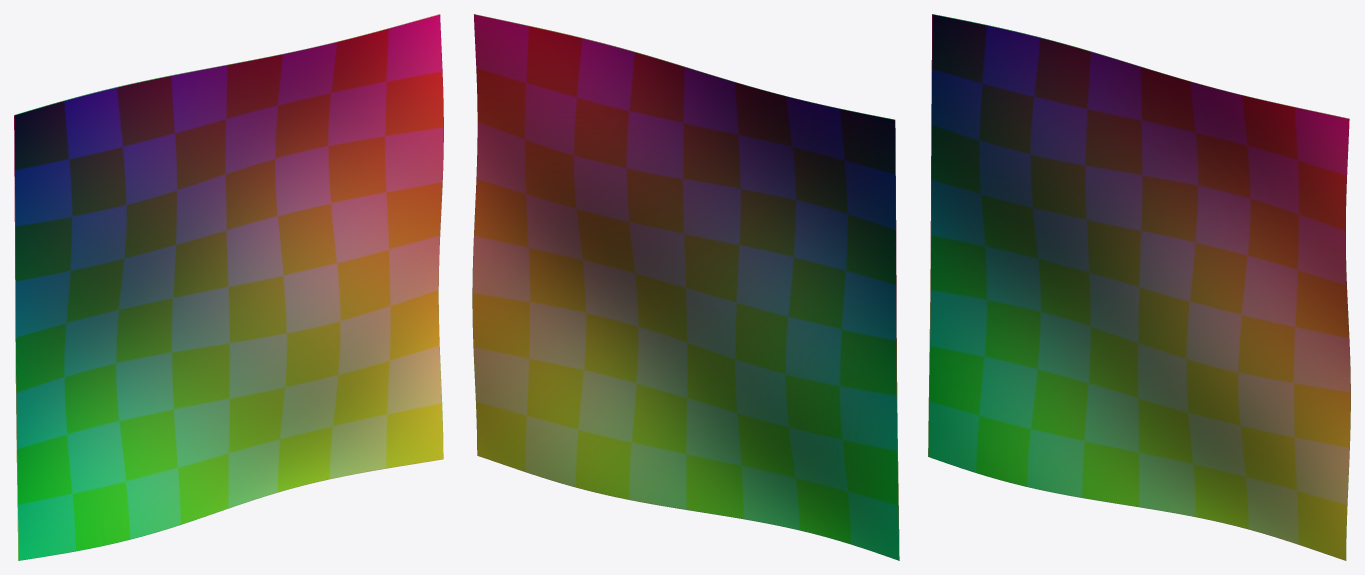
File: Tile_+011_+022.obj
3 renders of one model, left to right at view 1: azimuth 30°, elevation 25°; view 2: azimuth 150°, elevation 25°; view 3: azimuth 330°, elevation 25°, orthographic.
Size of the model in its own units: 100 by 100 by 5.8.
